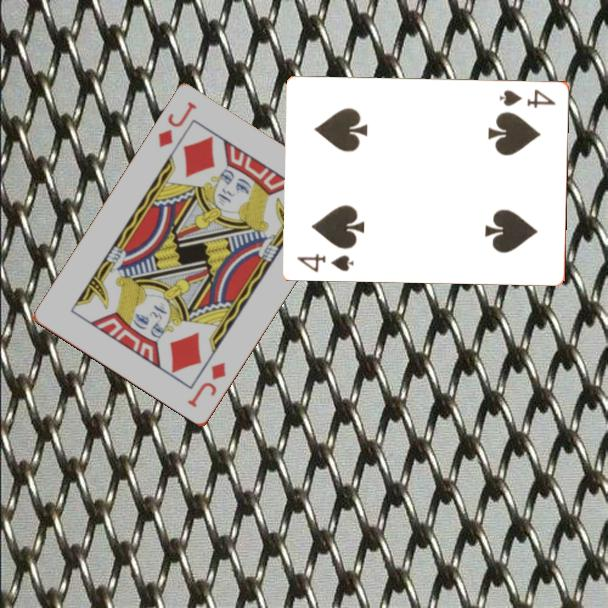d11: (155, 98, 200, 151), (184, 359, 229, 411)
s04: (496, 85, 559, 110), (294, 250, 357, 275)
